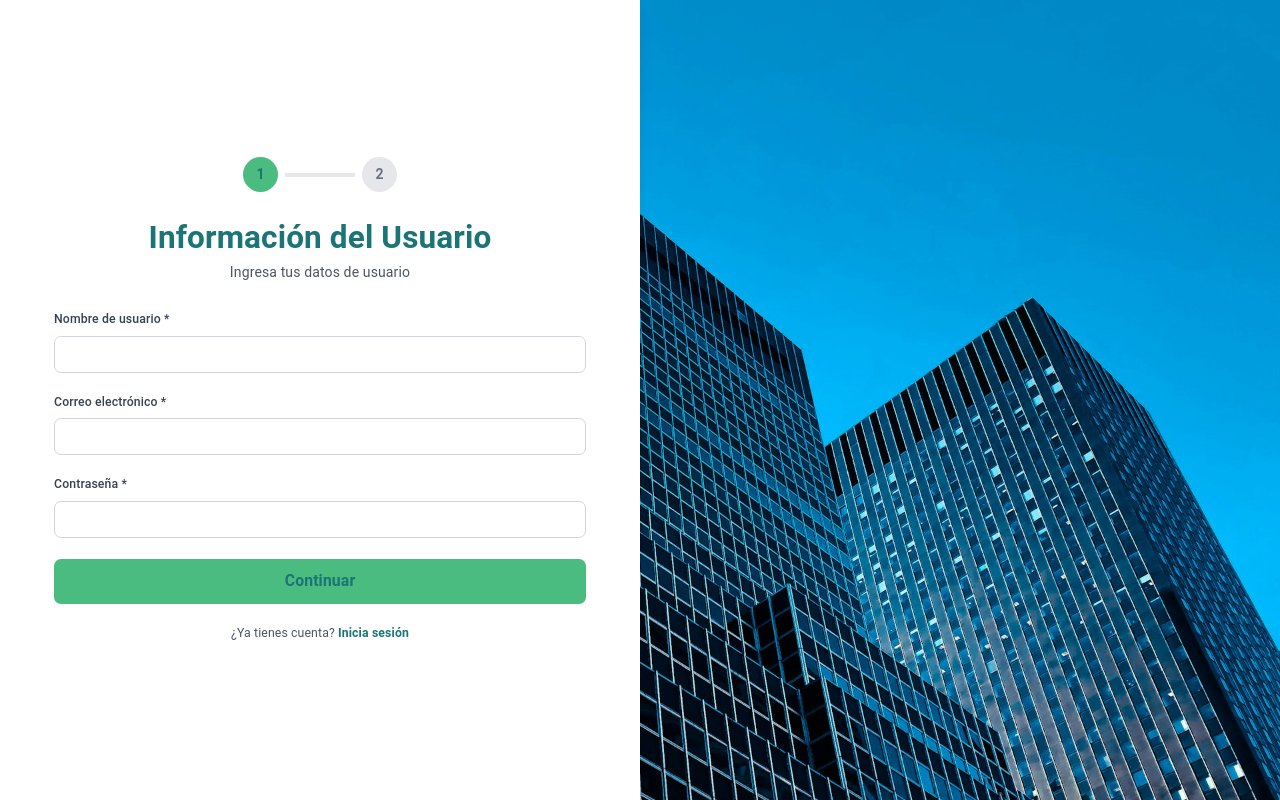
it: Register › goes back to step 1
The width and height of the screenshot is (1280, 800).
Step 1. Type "newuser" into the field with test id "input-registro-nombre-usuario" → {"x": 320, "y": 354}, box [54,336,586,373]
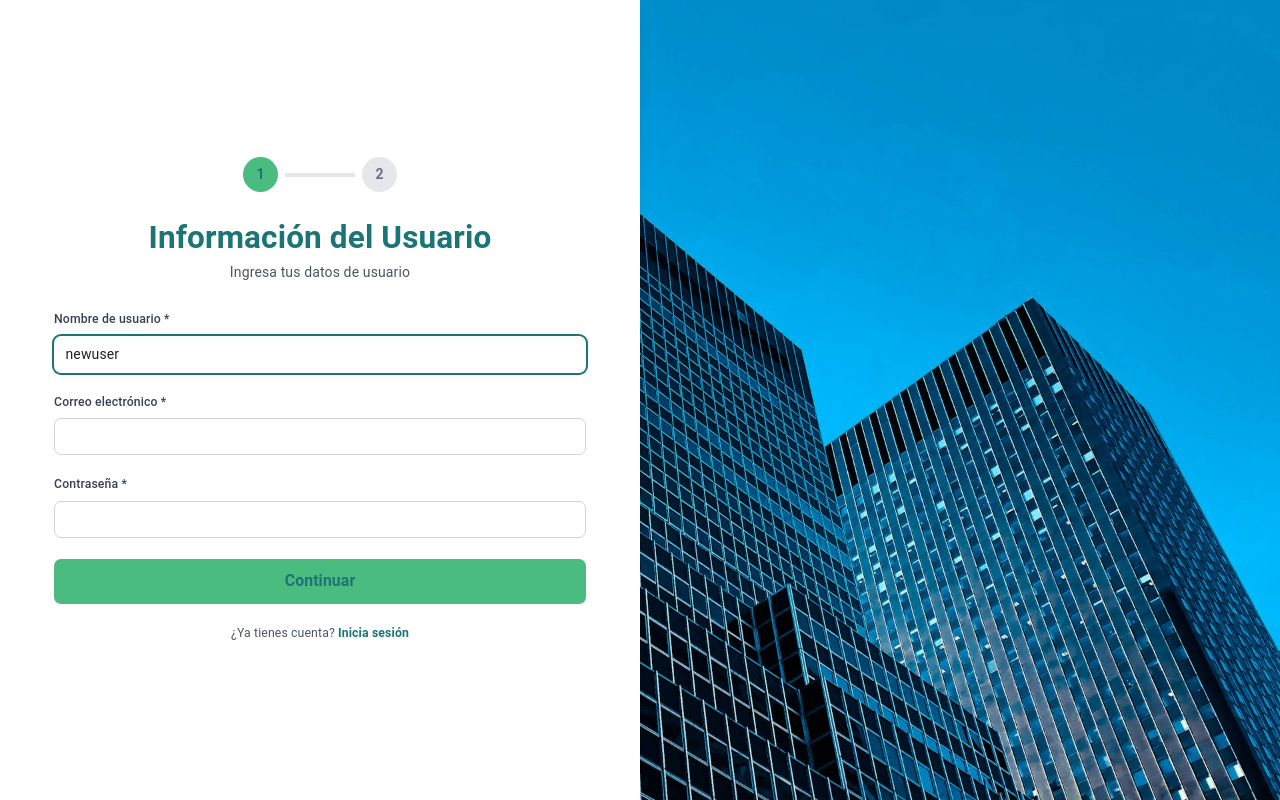
Step 2. Type "user@test.com" into the field with test id "input-registro-correo" → {"x": 320, "y": 437}, box [54,418,586,455]
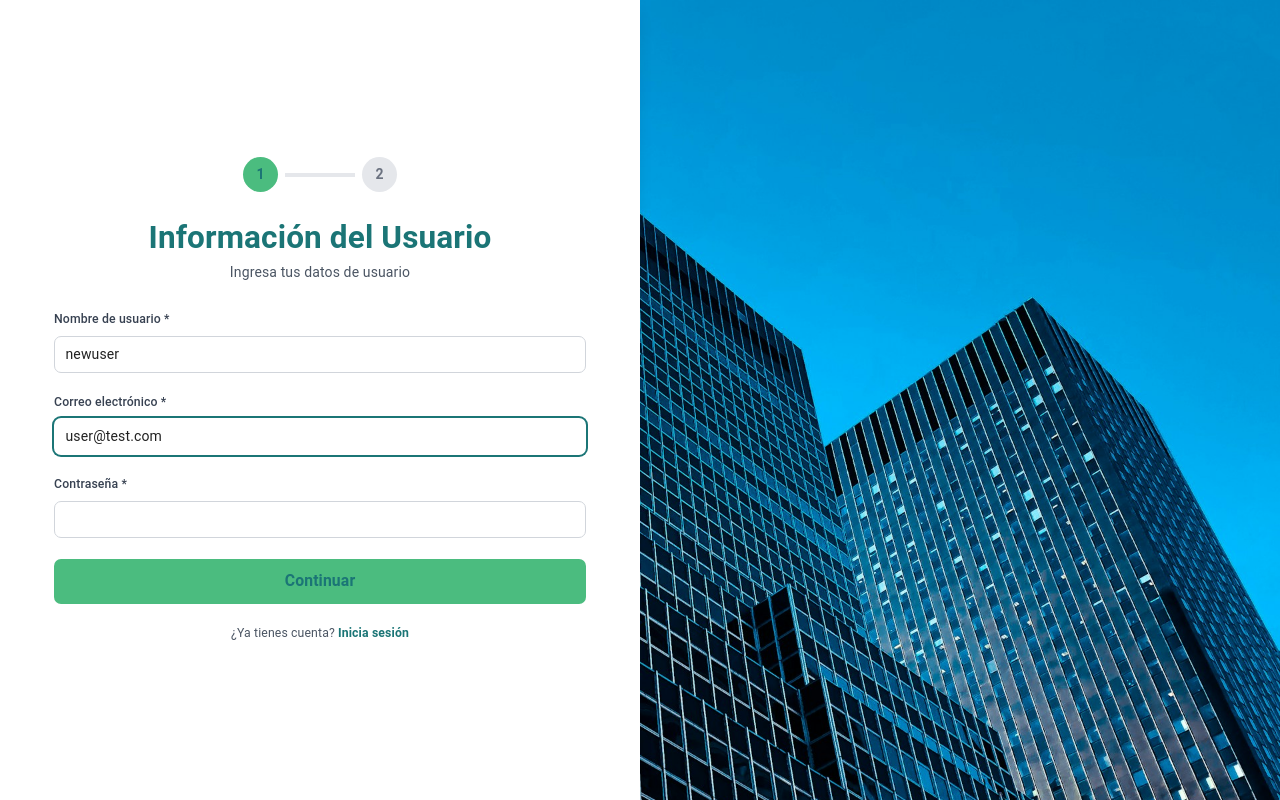
Step 3. Type "pass123" into the password field with test id "input-registro-password" → {"x": 320, "y": 519}, box [54,501,586,538]
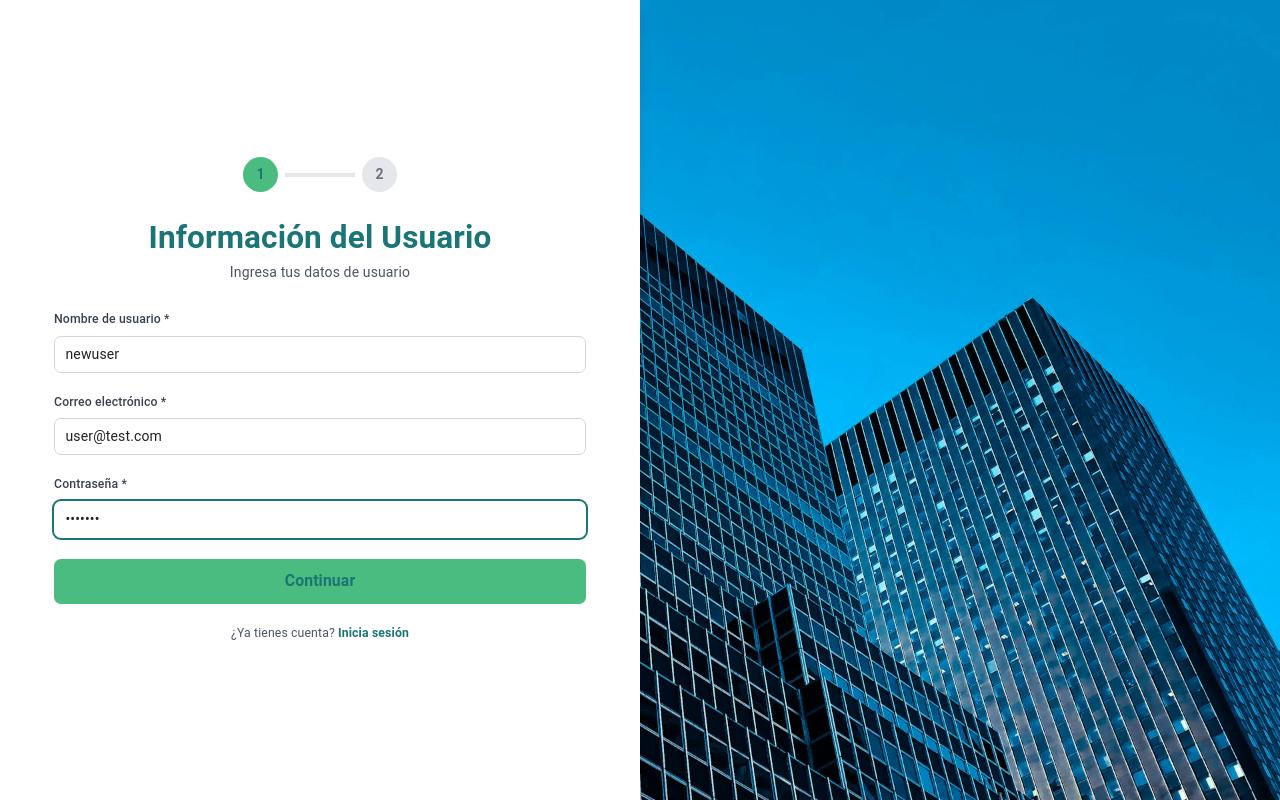
Step 4. Click the button with test id "button-registro-continuar" → {"x": 320, "y": 582}, box [54,559,586,604]
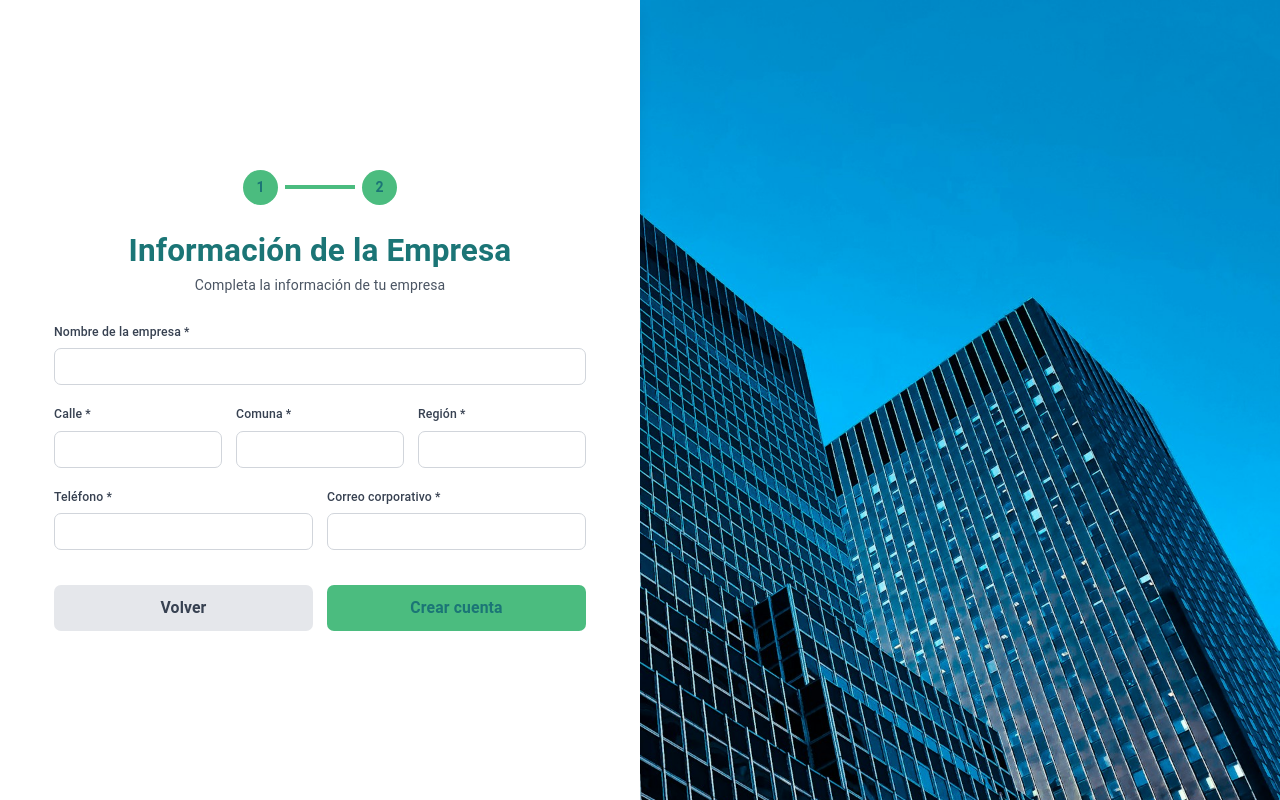
Check: the field with test id "input-registro-nombre-empresa" is shown, box [54,348,586,385]
Step 5. Click the button with test id "button-registro-volver" → {"x": 184, "y": 608}, box [54,585,313,630]
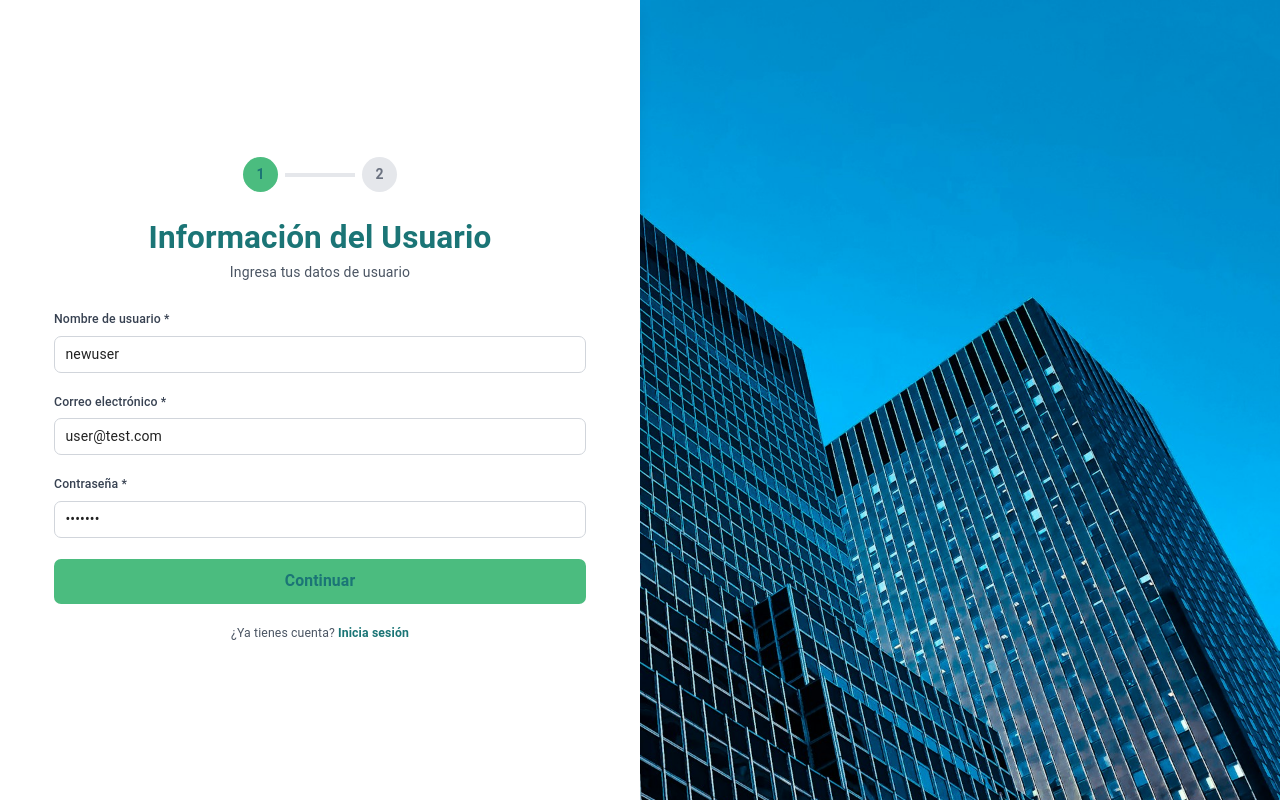
Check: the field with test id "input-registro-nombre-usuario" is shown, box [54,336,586,373]
